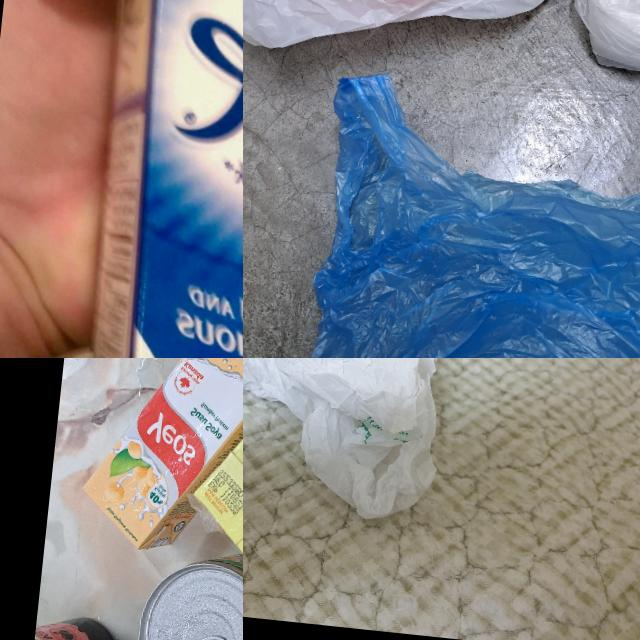caixinha: (68, 0, 243, 358), (73, 358, 243, 561), (188, 429, 243, 599)
garrafa de vidro: (28, 593, 127, 640)
lata: (134, 543, 243, 640)
sacola plástica: (301, 69, 640, 358), (243, 358, 489, 531), (243, 0, 602, 81), (563, 0, 640, 81)
